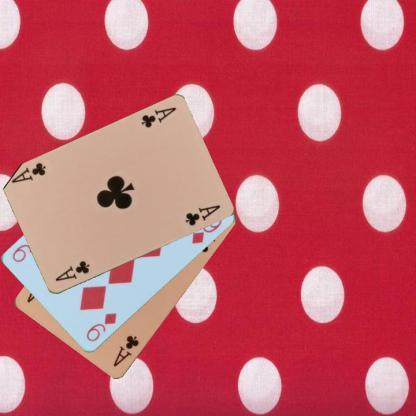9d: (84, 310, 118, 343)
Ac: (110, 332, 140, 369), (138, 104, 177, 130), (52, 258, 90, 283)
